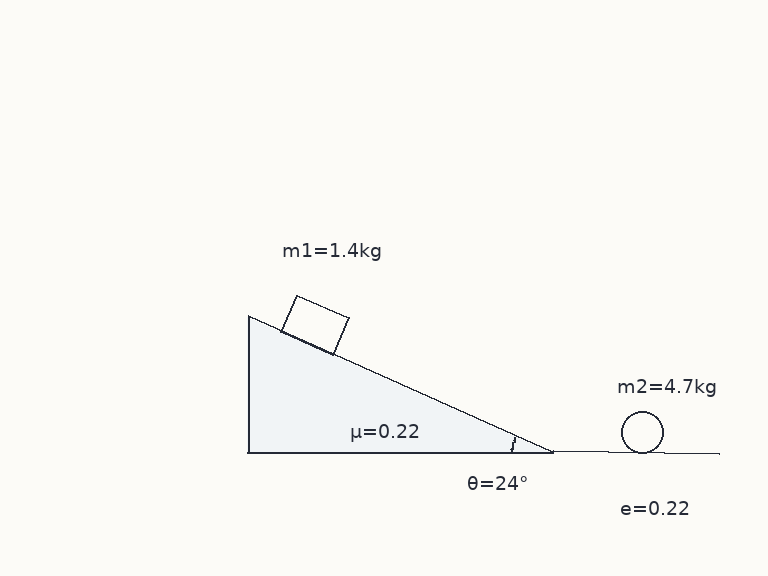ball: (619, 409, 665, 455)
block: (279, 293, 350, 357)
ramp: (246, 316, 554, 455)
